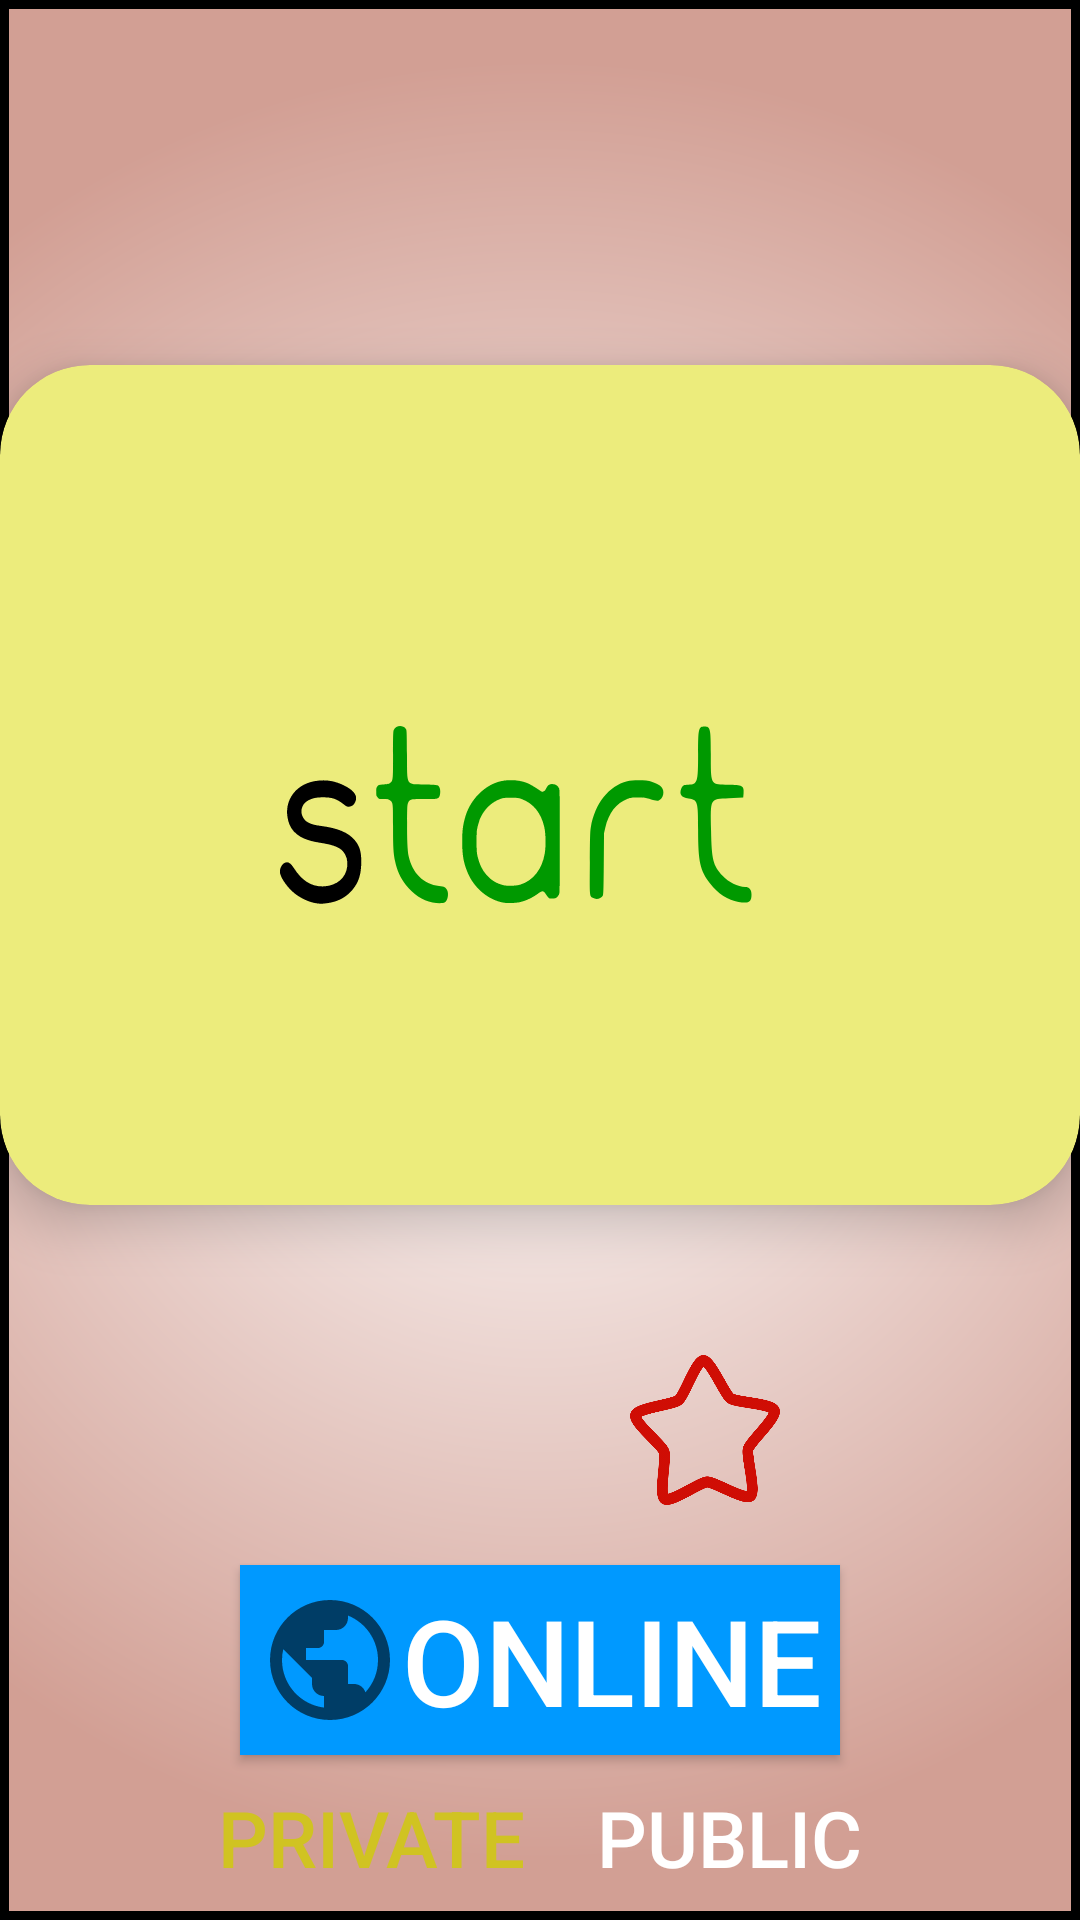

Icons on this 1080 × 1920 Android screen, each with its box as (x1, y1, x2, y2):
star: (630, 1355, 780, 1505)
